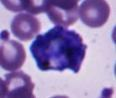D: (31, 28, 88, 71)
